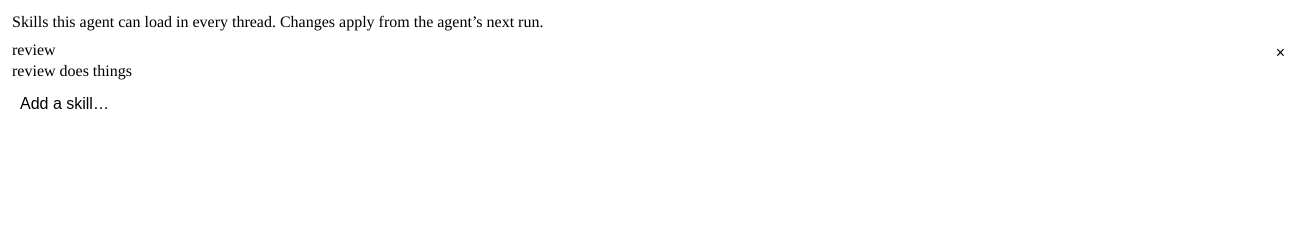
Test: AgentSkillsSection › adds with the mouse and removes with the remove control
Click the dropdown named "Add to Agent skills": (652, 104) [12,90,1292,118]
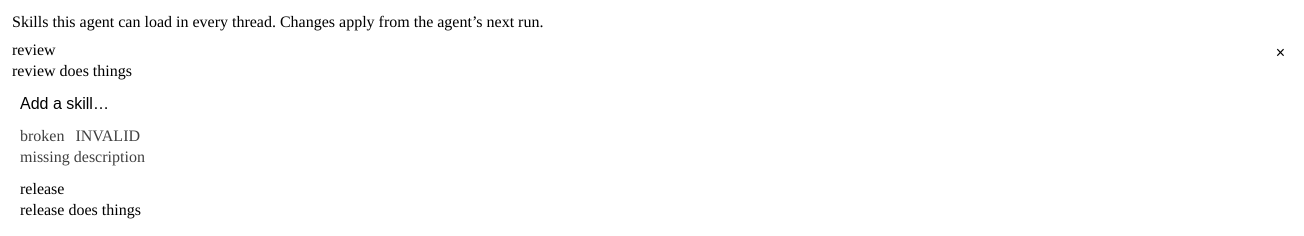
Press the mouse on the option "release release does things": (80, 200) [20,181,141,219]
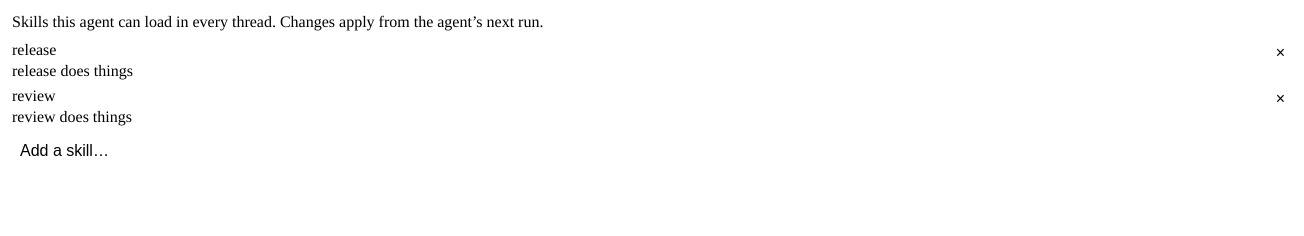
Click the button named "Remove review": (1280, 99) [1269,88,1292,109]
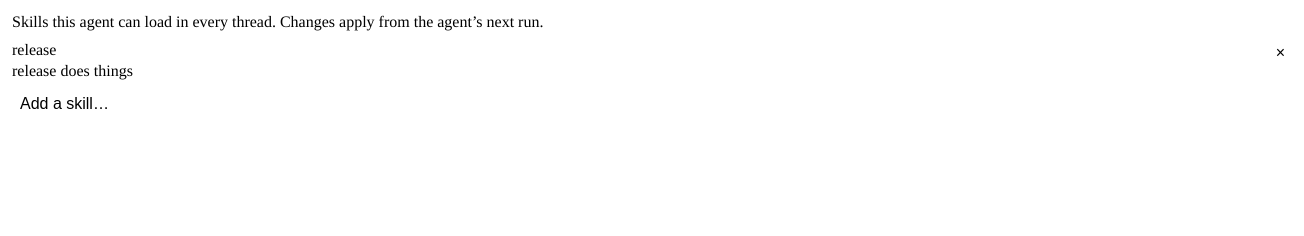
Check: the text "review" is gone
